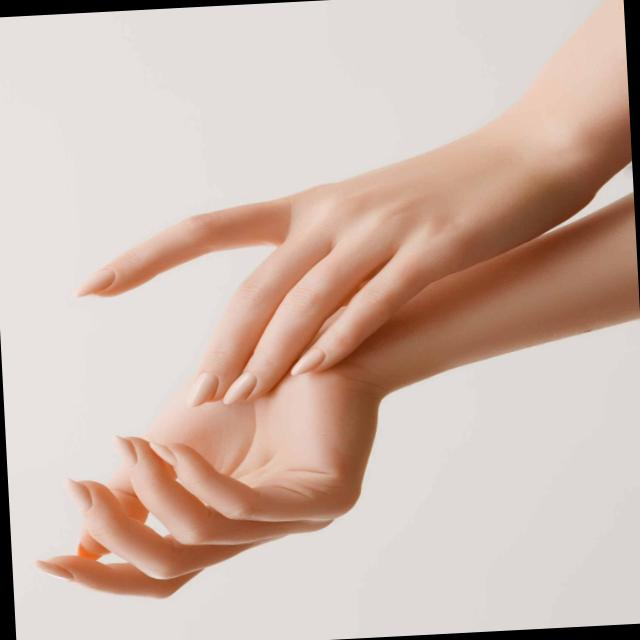Hand: (57, 116, 571, 416), (14, 315, 403, 613)
